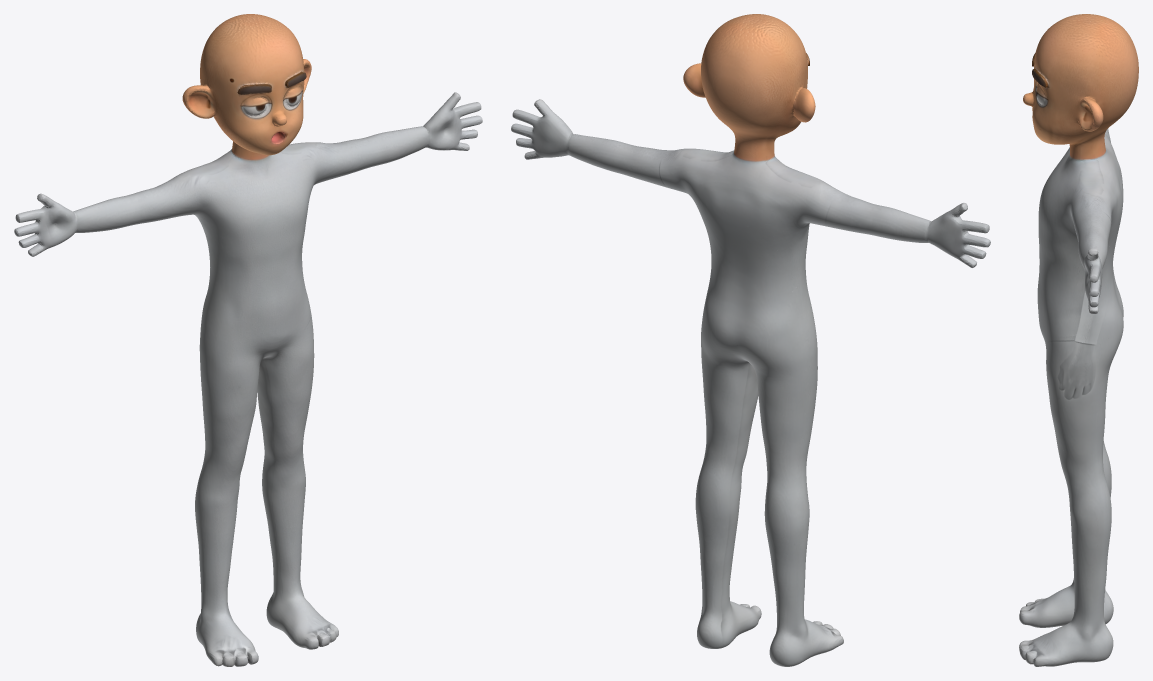
File: base_basic_pbr.glb
3 views of the same model, side by side, from view 1: azimuth 30°, elevation 25°; view 2: azimuth 150°, elevation 25°; view 3: azimuth 270°, elevation 25° (orthographic). The views are drawn at different scales.
Parts seen in each view (by area): view 1: model; view 2: model; view 3: model.
Boxes of the visible parts, x1=… form: model: x1=14, y1=14, x2=482, y2=666; model: x1=511, y1=14, x2=990, y2=666; model: x1=1019, y1=14, x2=1138, y2=666.
Bounding box in the file's own units: 1.38 × 1.74 × 0.3052.
1 material, 1 textured.
